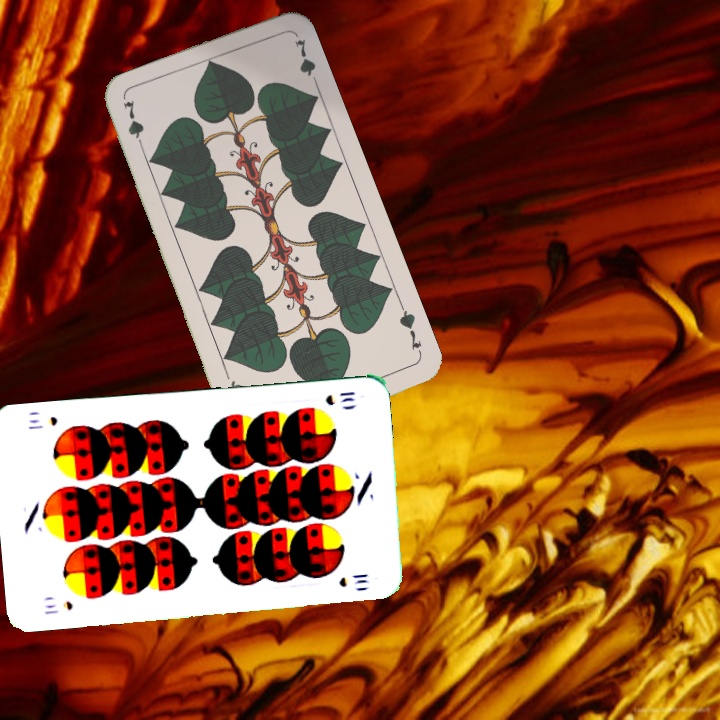G7: (395, 301, 425, 359), (119, 96, 148, 155)
S10: (321, 388, 358, 408), (40, 597, 75, 617)
